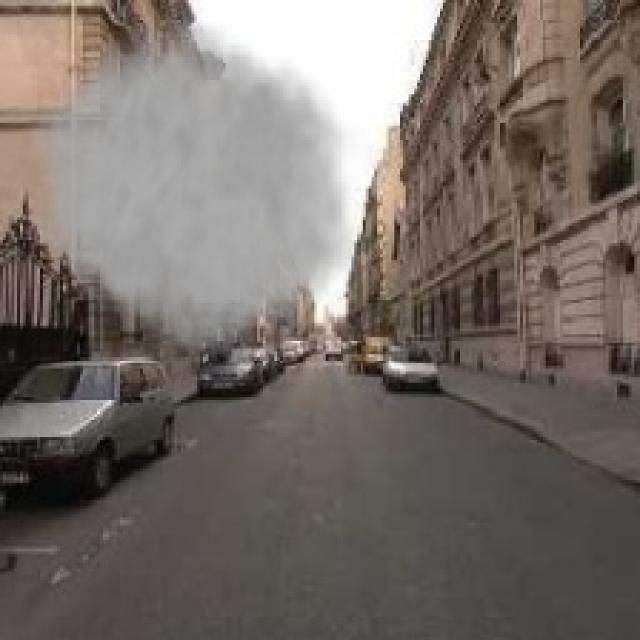Smoke: (26, 3, 372, 366)
